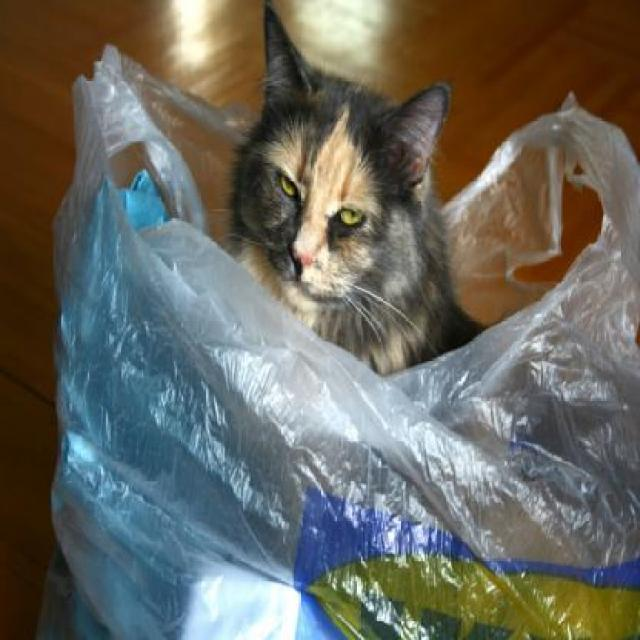plastic bag: (51, 43, 638, 639)
